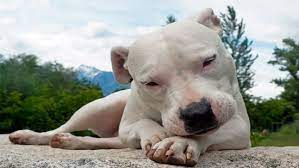dog: (8, 5, 271, 168)
